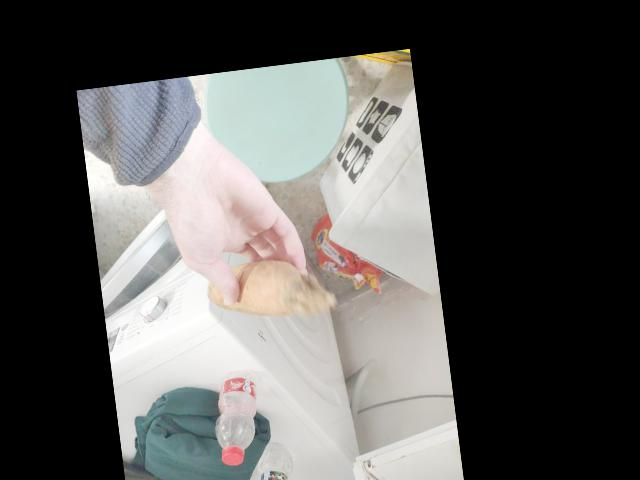sweet_potato: (213, 260, 312, 325)
